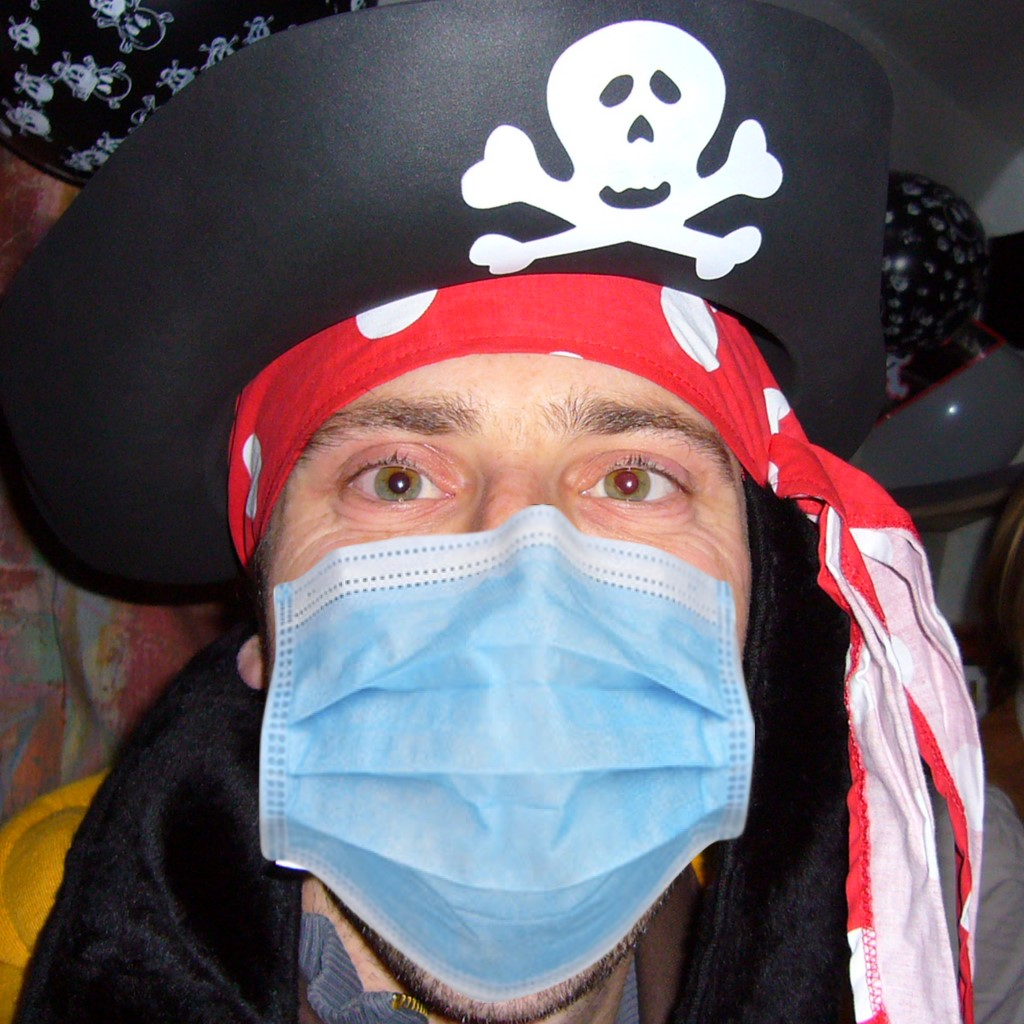con_mascara: (231, 254, 779, 971)
